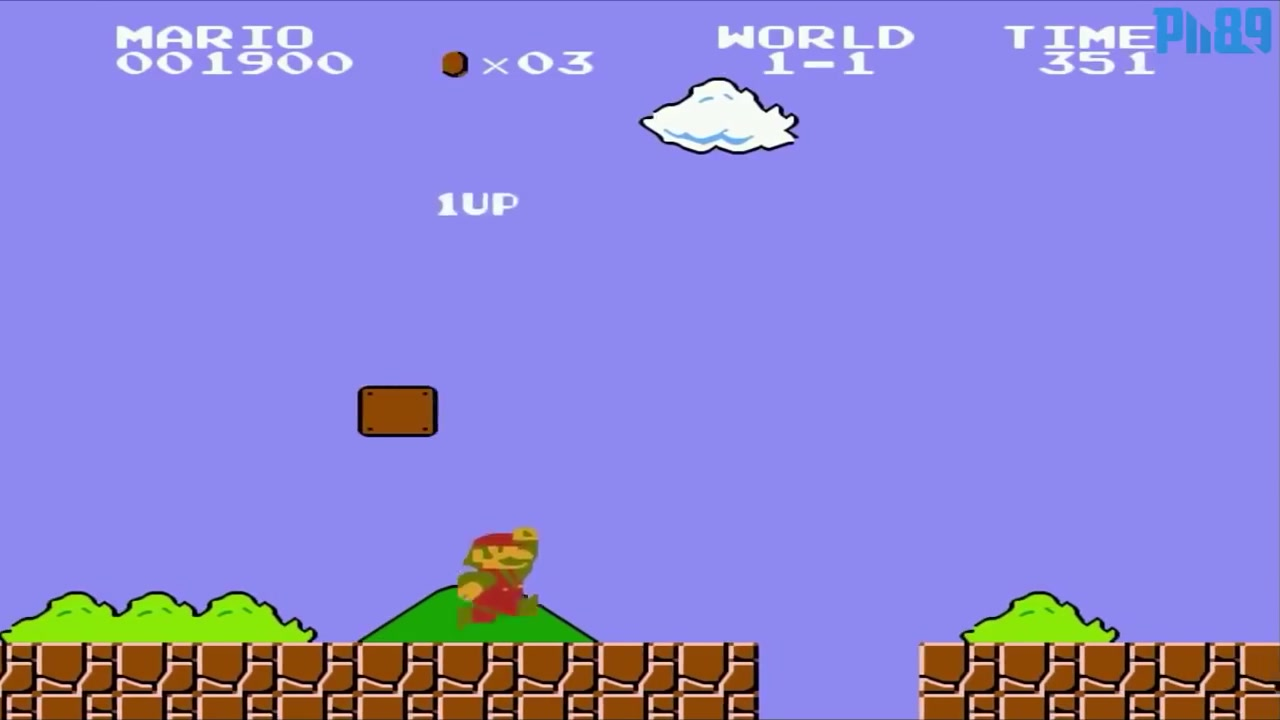mario: (445, 521, 553, 623)
